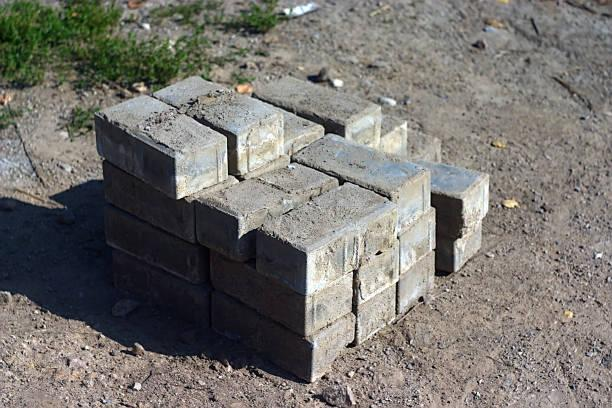Bricks: (197, 156, 340, 264), (251, 183, 399, 286), (294, 133, 431, 234), (91, 90, 229, 190), (153, 70, 284, 172), (217, 302, 357, 379), (211, 260, 357, 331), (261, 73, 379, 150), (107, 249, 212, 329), (402, 152, 494, 239), (103, 161, 197, 238), (109, 214, 200, 277), (250, 90, 317, 140), (395, 208, 439, 272), (350, 245, 404, 297), (397, 248, 434, 313), (439, 221, 484, 274), (362, 292, 394, 340), (378, 110, 413, 152), (413, 130, 447, 157)
